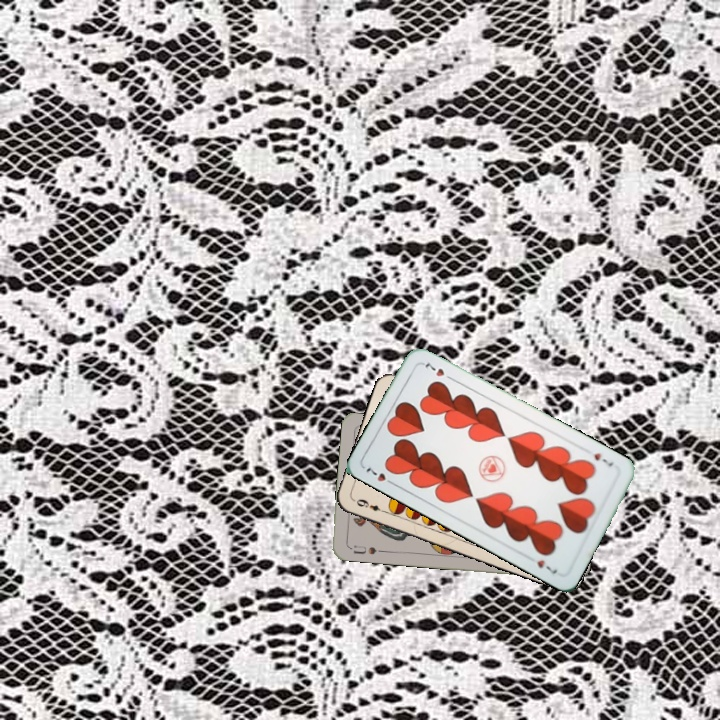E9: (350, 495, 389, 516)
H7: (362, 463, 398, 488), (590, 449, 616, 469)
SU: (350, 541, 386, 557)
